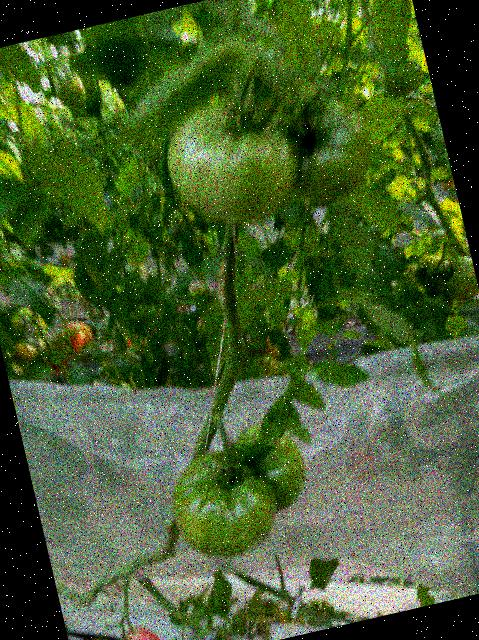b_green: (156, 89, 310, 237), (162, 441, 287, 569), (276, 92, 382, 210), (228, 417, 314, 519), (436, 253, 479, 305), (379, 56, 426, 99), (412, 253, 453, 295), (417, 284, 456, 319)
b_half_ripened: (108, 622, 160, 640)
